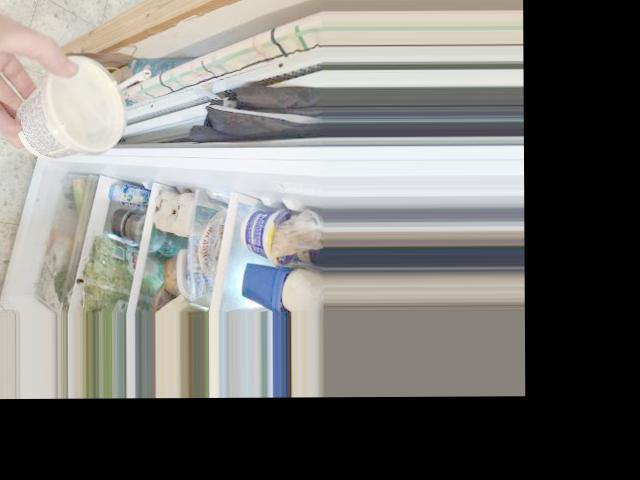cotage: (7, 44, 122, 157)
